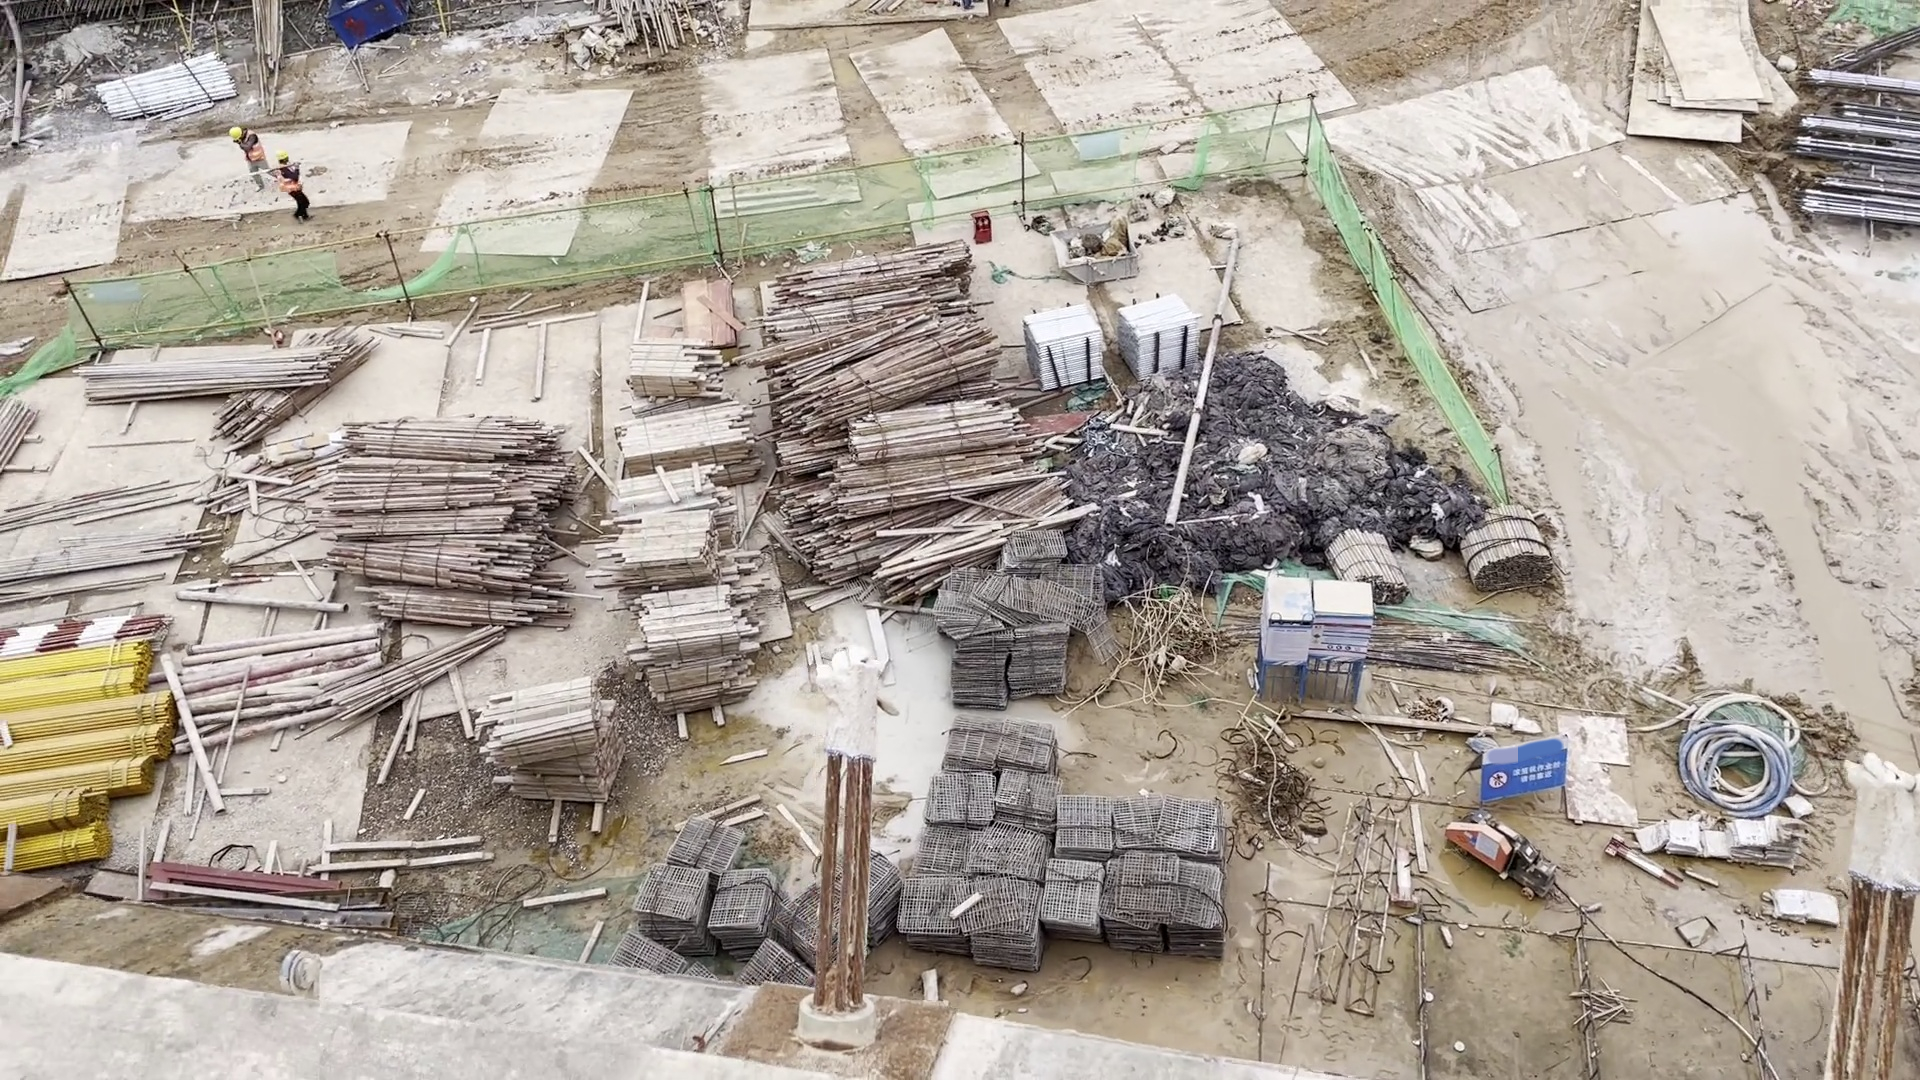helmet: (229, 125, 244, 140), (277, 149, 286, 162)
hopper: (1054, 220, 1138, 275), (333, 4, 414, 45)
person: (269, 149, 314, 223), (227, 126, 277, 190)
scaffold: (98, 65, 235, 118), (1017, 312, 1102, 385), (1122, 294, 1197, 372)
slogan: (1480, 745, 1562, 797)
vest: (279, 169, 302, 195), (241, 136, 263, 159)
wood: (765, 256, 1035, 577), (329, 422, 559, 629), (226, 334, 355, 451), (496, 690, 612, 810), (634, 598, 746, 710), (617, 478, 730, 587), (613, 408, 756, 478), (83, 351, 343, 387), (627, 344, 713, 393)
